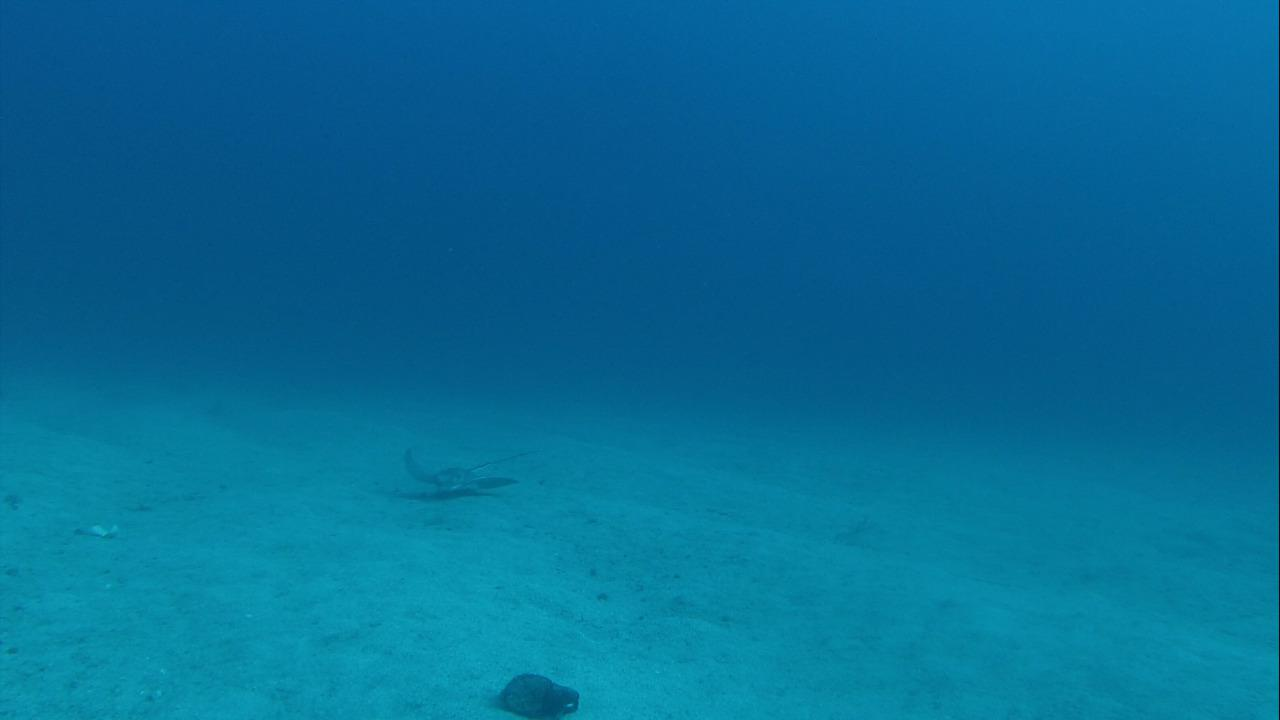myliobatis: (387, 441, 547, 509)
